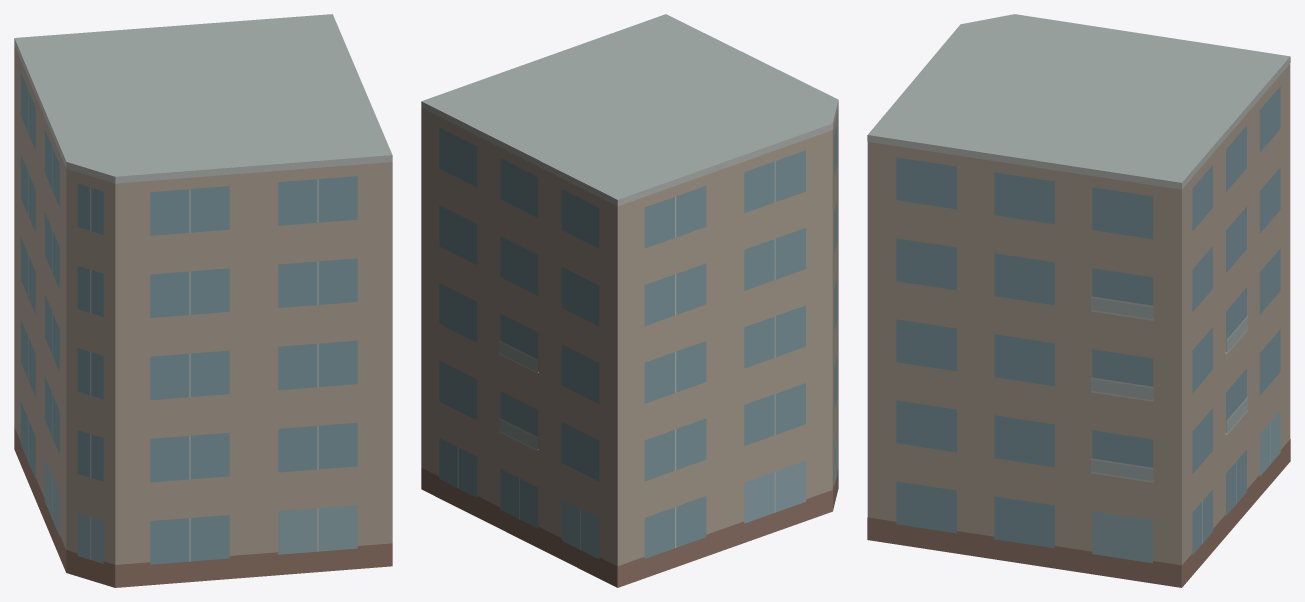
File: survey-upis-33047059.glb
3 renders of one model, left to right at view 1: azimuth 30°, elevation 25°; view 2: azimuth 150°, elevation 25°; view 3: azimuth 270°, elevation 25°, orthographic. The views are drawn at different scales.
Visible parts, largest first — view 1: survey-upis-33047059.tmp; view 2: survey-upis-33047059.tmp; view 3: survey-upis-33047059.tmp.
Part boxes in pixels (x1,y1,x2,y2): survey-upis-33047059.tmp: (14,14,392,587); survey-upis-33047059.tmp: (421,14,838,587); survey-upis-33047059.tmp: (867,14,1290,587).
Bounding box in the file's own units: 13.06 × 14.6 × 13.83.
